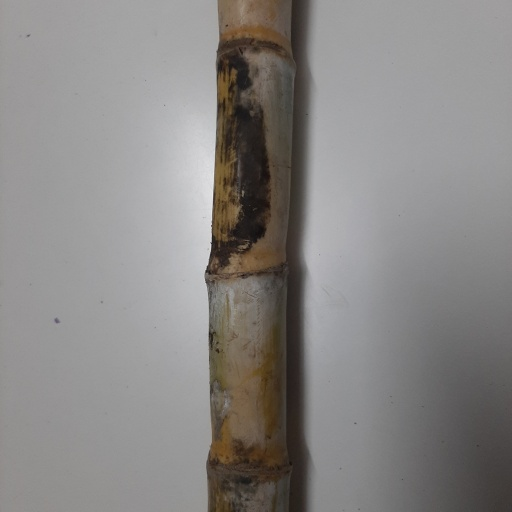Bud: (208, 258, 220, 273)
